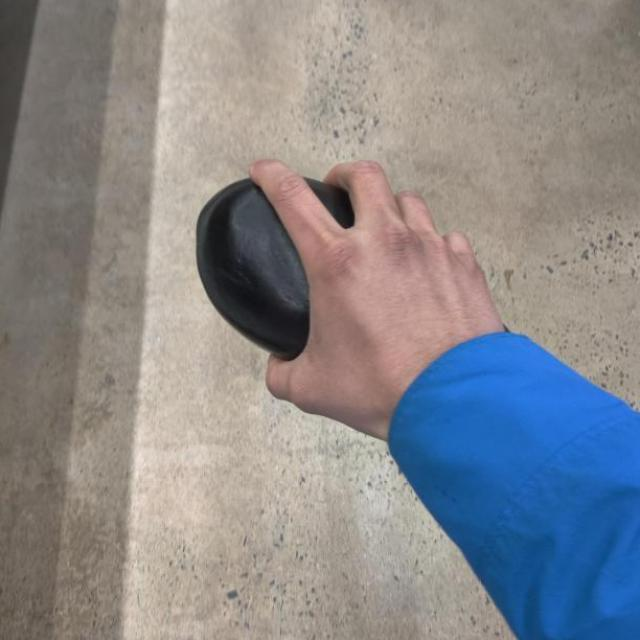Eggplant: (167, 151, 460, 404)
